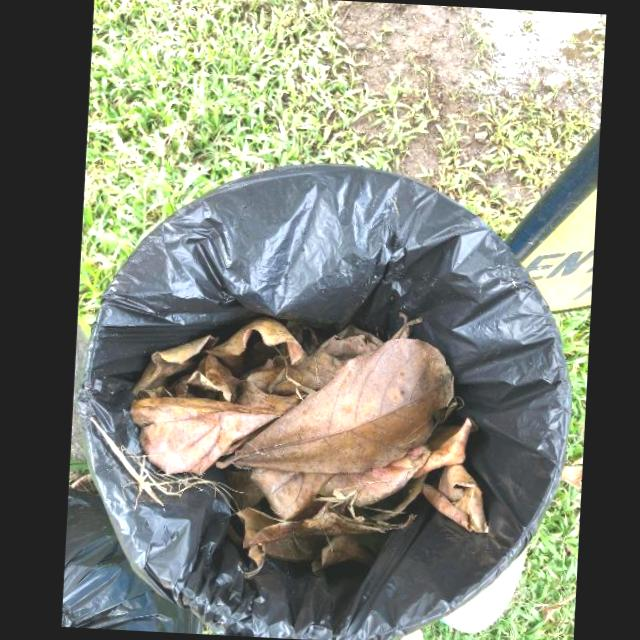la_cay: (225, 339, 454, 475), (237, 474, 427, 580), (314, 420, 472, 506), (235, 325, 383, 412), (130, 398, 292, 475), (132, 335, 219, 400), (205, 317, 307, 365), (421, 465, 489, 533), (250, 468, 338, 520), (167, 354, 247, 403)
